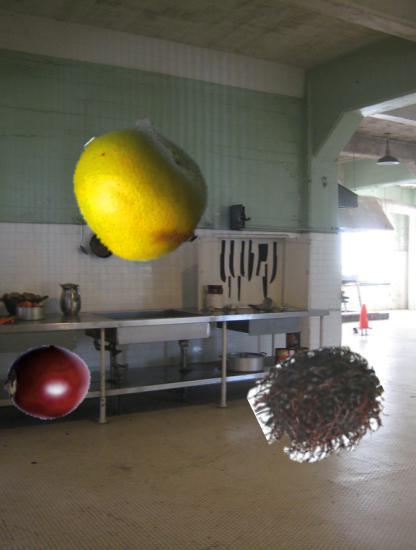Pomelo: (68, 120, 212, 264)
Rambutan: (257, 341, 385, 469)
Tamarillo: (4, 338, 92, 426)
